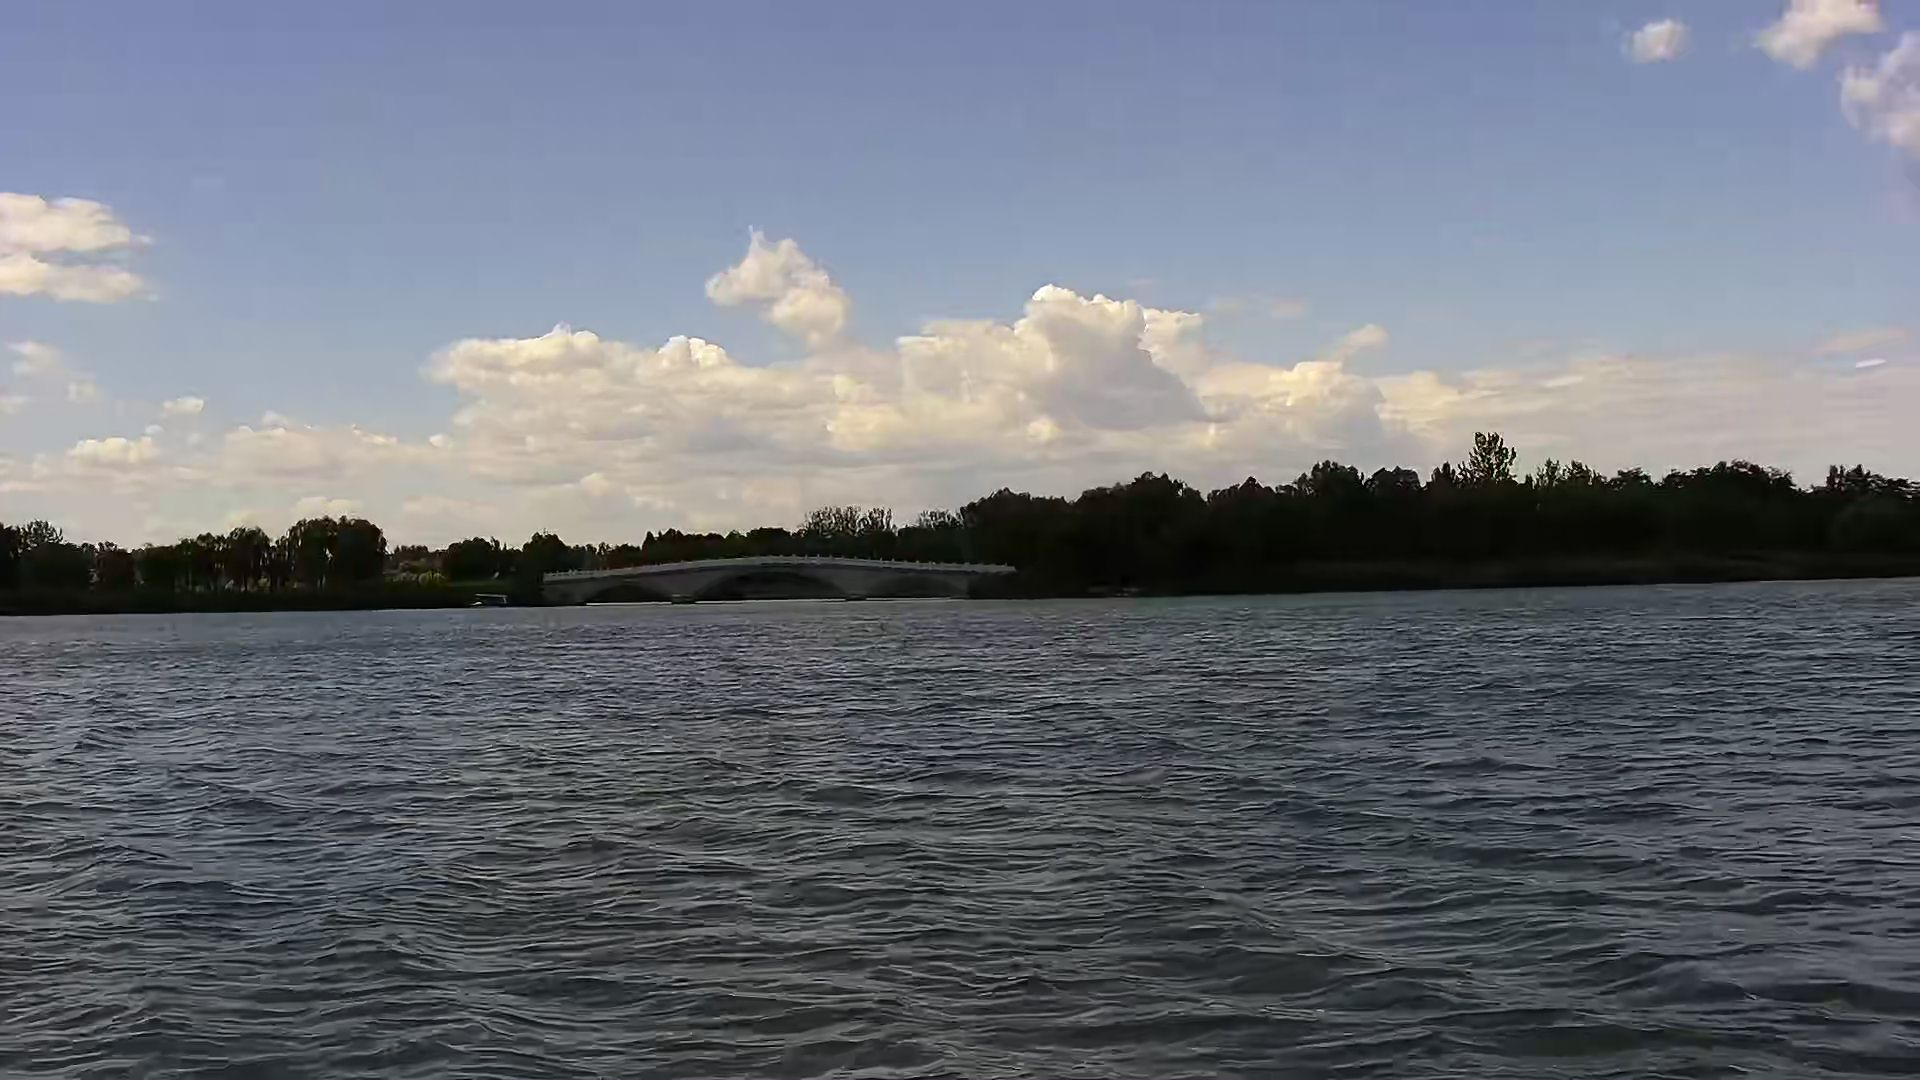bridge: (539, 553, 1010, 607)
